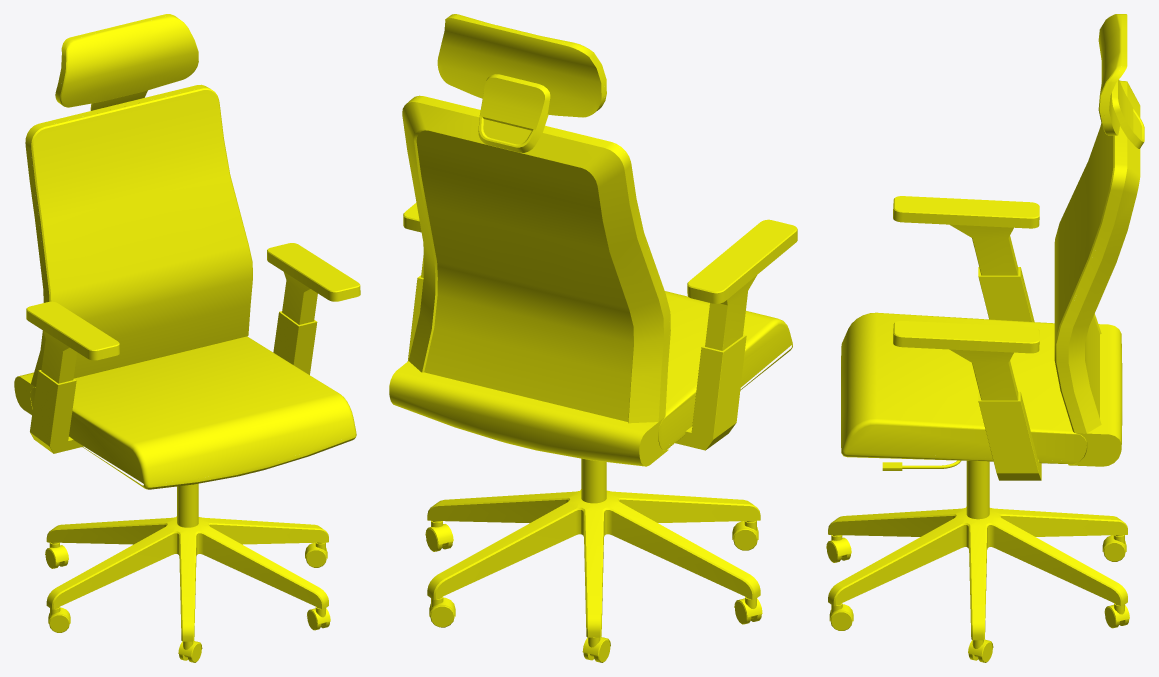
Rendered from chair-opt.glb.
3 views of the same model, side by side, from view 1: azimuth 30°, elevation 25°; view 2: azimuth 150°, elevation 25°; view 3: azimuth 270°, elevation 25° (orthographic). The views are drawn at different scales.
Parts seen in each view (by area): view 1: Main; view 2: Main; view 3: Main.
Part boxes in pixels (box(x1,y1,x2,y2)): Main: box(14, 14, 360, 662); Main: box(389, 14, 797, 662); Main: box(826, 14, 1144, 662).
Size of the model in its own units: 1.22 by 2.14 by 1.12.
